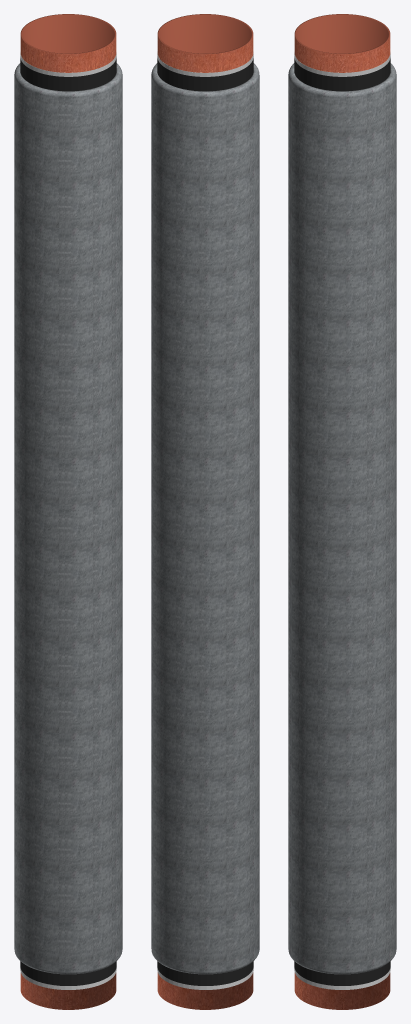
Rendered from nordstream-ar-1.glb.
The picture shows the model from 3 angles, left to right: view 1: azimuth 90°, elevation 25°; view 2: azimuth 210°, elevation 25°; view 3: azimuth 270°, elevation 25°; orthographic projection.
Parts seen in each view (by area): view 1: ring beton, ring rost rohr, ring black, ring black.001, ring metall, ring metall.001; view 2: ring beton, ring rost rohr, ring black, ring black.001, ring metall, ring metall.001; view 3: ring beton, ring rost rohr, ring black, ring black.001, ring metall, ring metall.001.
Part boxes in pixels (bbox=[...]): ring beton: bbox=[14, 63, 122, 974]; ring rost rohr: bbox=[20, 14, 116, 1009]; ring black: bbox=[20, 58, 116, 91]; ring black.001: bbox=[20, 961, 116, 985]; ring metall: bbox=[20, 52, 116, 76]; ring metall.001: bbox=[20, 968, 116, 989]; ring beton: bbox=[151, 63, 259, 974]; ring rost rohr: bbox=[157, 14, 253, 1009]; ring black: bbox=[157, 58, 253, 91]; ring black.001: bbox=[157, 961, 253, 985]; ring metall: bbox=[157, 51, 253, 76]; ring metall.001: bbox=[157, 968, 253, 989]; ring beton: bbox=[288, 63, 396, 974]; ring rost rohr: bbox=[294, 14, 390, 1009]; ring black: bbox=[294, 58, 390, 91]; ring black.001: bbox=[294, 961, 390, 985]; ring metall: bbox=[294, 52, 390, 76]; ring metall.001: bbox=[294, 968, 390, 989].
Size of the model in its own units: 1.33 by 13 by 1.33.
Materials: 4 (2 with a texture image).
